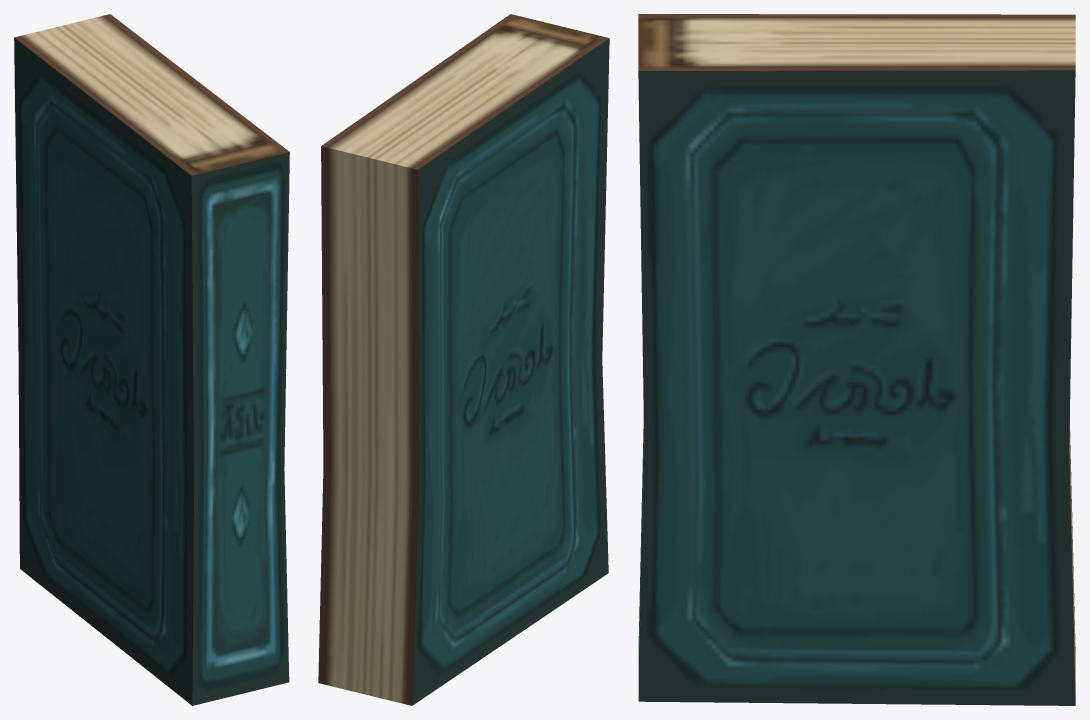
Rendered from SM_PROP_book_city_03.fbx.
The picture shows the model from 3 angles, left to right: view 1: azimuth 30°, elevation 25°; view 2: azimuth 150°, elevation 25°; view 3: azimuth 270°, elevation 25°; orthographic projection. The views are drawn at different scales.
Visible parts, largest first — view 1: SM_PROP_book_city_03; view 2: SM_PROP_book_city_03; view 3: SM_PROP_book_city_03.
Part boxes in pixels (x1,y1,x2,y2): SM_PROP_book_city_03: (14,14,289,705); SM_PROP_book_city_03: (318,14,609,705); SM_PROP_book_city_03: (638,14,1075,705).
Bounding box in the file's own units: 8.12 × 39.4 × 24.62.
